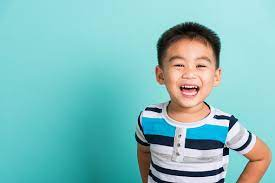person: (155, 21, 222, 110)
